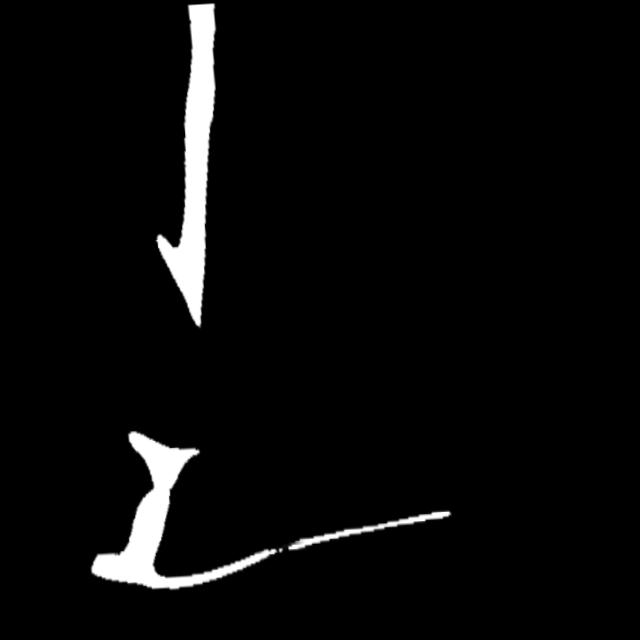inf: (255, 538, 302, 563)
